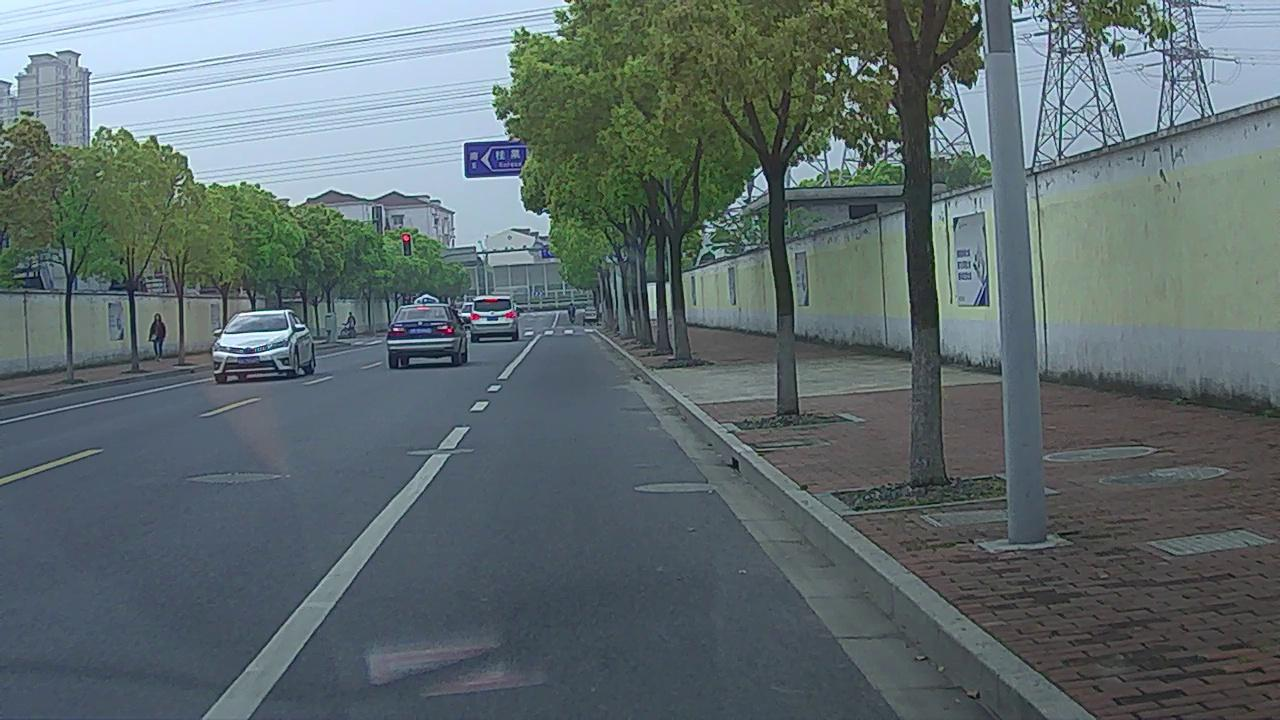traffic_light: (401, 233, 411, 256)
